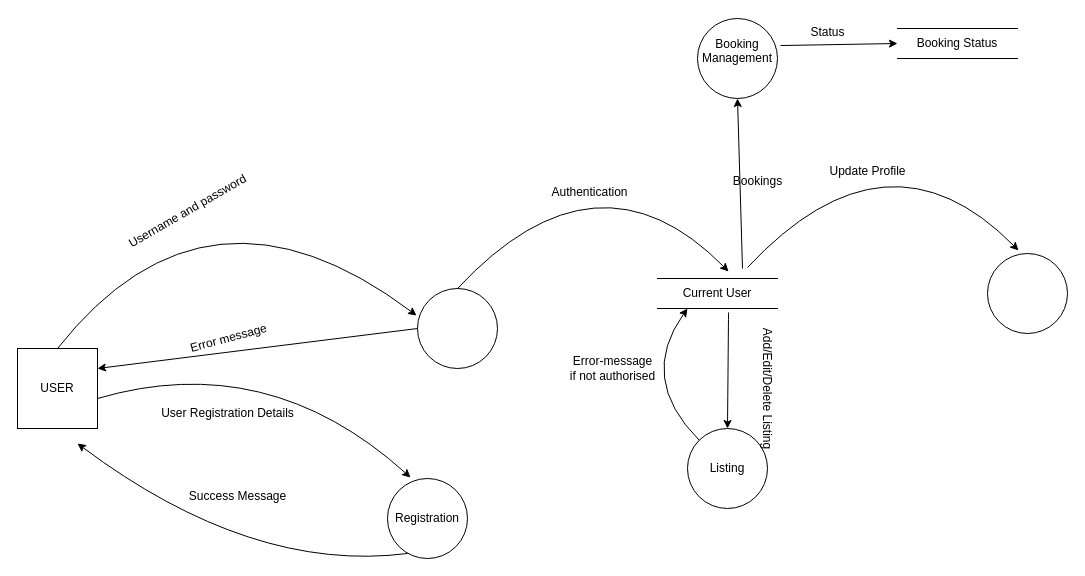
Image size: 1085x576. Some labels were removed from this diagram. The shapes that lost their labels are listed below. From the top down, each one's centre as x and y in pixels, then its label:
At (x=1027, y=293): "Profile".
At (x=457, y=328): "Login".
